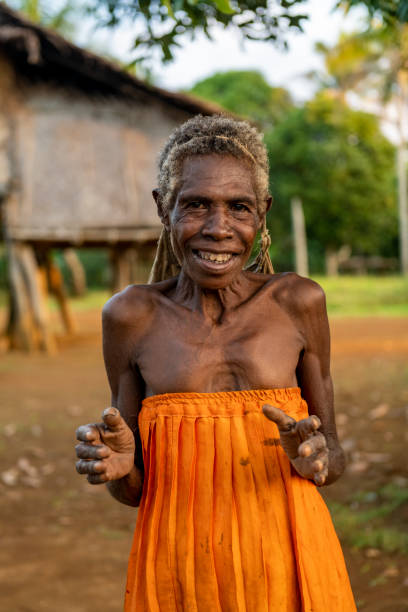face: (174, 170, 259, 278)
